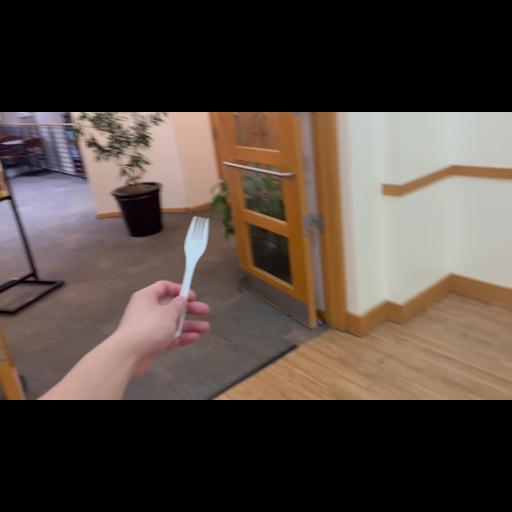utensil: (162, 211, 216, 357)
